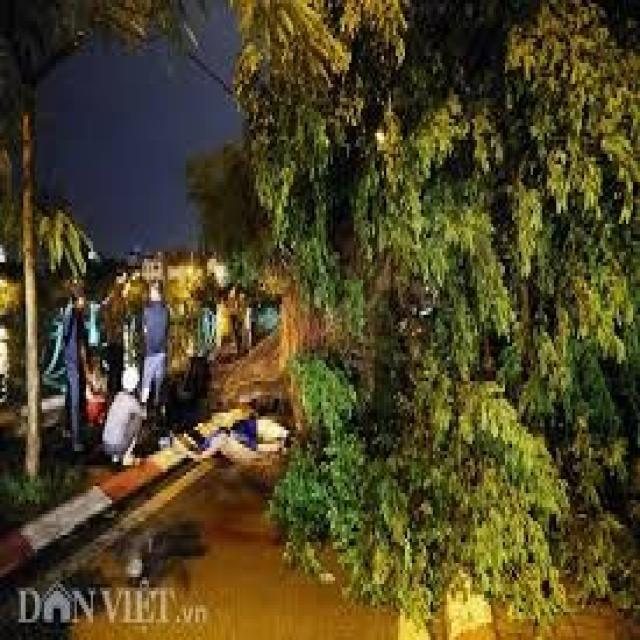fallen_object: (84, 231, 640, 545)
